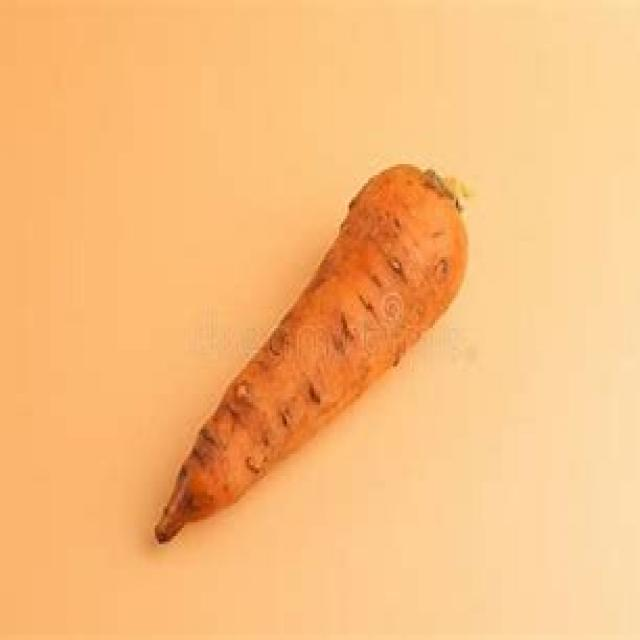Carrot: (153, 159, 479, 541)
